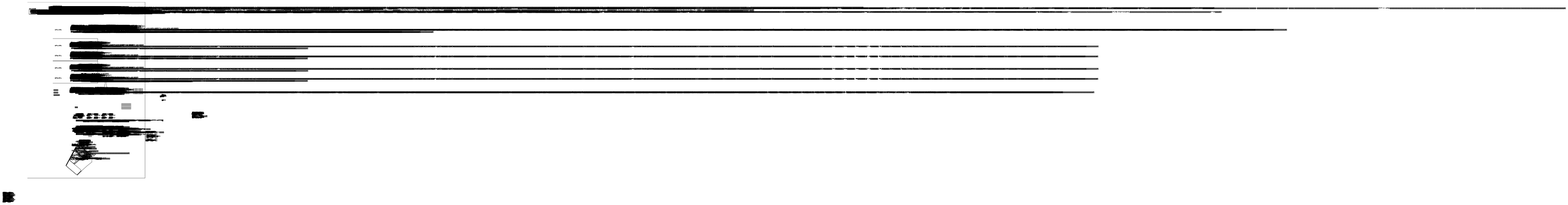corridor: (1093, 112, 1104, 113), (834, 151, 838, 153), (779, 151, 783, 153), (700, 151, 703, 153), (703, 151, 706, 153), (838, 151, 841, 153), (822, 151, 825, 153), (1090, 112, 1093, 114), (1017, 179, 1021, 180), (703, 179, 707, 180), (834, 129, 838, 130), (1228, 179, 1232, 180), (779, 129, 783, 130), (1225, 179, 1228, 180), (838, 129, 841, 130), (707, 179, 710, 180), (768, 162, 771, 163), (876, 162, 879, 163), (700, 129, 703, 130), (768, 139, 771, 140), (876, 139, 879, 140), (771, 162, 774, 163), (873, 162, 876, 163), (703, 129, 706, 130), (771, 139, 774, 140), (873, 139, 876, 140), (690, 162, 693, 163), (1011, 179, 1014, 180), (888, 162, 891, 163), (888, 139, 891, 140), (690, 139, 693, 140), (822, 129, 825, 130), (920, 179, 923, 180), (1090, 111, 1093, 112)
room: (701, 51, 746, 53), (854, 196, 884, 198), (752, 151, 778, 153), (808, 46, 834, 48), (830, 197, 867, 198), (733, 179, 763, 180), (1172, 179, 1202, 180), (443, 193, 453, 196), (878, 47, 893, 49), (869, 48, 884, 50), (827, 179, 856, 180), (1077, 179, 1106, 180), (719, 115, 747, 116), (390, 193, 399, 196), (856, 179, 882, 180), (763, 179, 789, 180), (1146, 179, 1172, 180), (696, 162, 722, 163), (1051, 179, 1077, 180), (739, 151, 752, 153), (752, 129, 778, 130), (696, 139, 722, 140), (828, 45, 841, 47), (1166, 195, 1174, 198), (1157, 195, 1165, 198), (1176, 195, 1184, 198), (1185, 195, 1193, 198), (1204, 195, 1212, 198), (1195, 195, 1203, 198), (1214, 195, 1222, 198), (1223, 195, 1231, 198), (688, 115, 712, 116), (710, 179, 733, 180), (1202, 179, 1225, 180), (905, 124, 916, 126), (850, 196, 860, 198), (874, 151, 884, 153), (826, 197, 842, 198), (692, 151, 700, 153), (946, 115, 962, 116), (706, 151, 713, 153), (841, 151, 848, 153), (827, 151, 834, 153), (816, 196, 823, 198), (719, 151, 726, 153), (732, 151, 739, 153), (854, 151, 861, 153), (867, 151, 874, 153), (722, 162, 735, 163), (722, 139, 735, 140), (739, 129, 752, 130), (862, 49, 875, 50), (686, 151, 692, 153), (884, 151, 890, 153), (754, 115, 766, 116), (790, 115, 802, 116), (810, 115, 822, 116), (830, 115, 842, 116), (850, 115, 862, 116), (713, 151, 719, 153), (726, 151, 732, 153), (848, 151, 854, 153), (861, 151, 867, 153), (815, 151, 821, 153), (1093, 112, 1104, 113), (882, 179, 892, 180), (863, 162, 873, 163), (1041, 179, 1051, 180), (863, 139, 873, 140), (874, 129, 884, 130), (774, 162, 782, 163), (938, 115, 946, 116), (930, 115, 938, 116), (922, 115, 930, 116), (879, 162, 887, 163), (834, 151, 838, 153), (779, 151, 783, 153), (692, 129, 700, 130), (774, 139, 782, 140), (879, 139, 887, 140), (793, 44, 801, 45), (817, 46, 825, 47), (696, 179, 703, 180), (1232, 179, 1239, 180), (892, 179, 899, 180), (1034, 179, 1041, 180), (735, 162, 742, 163), (761, 162, 768, 163), (830, 162, 837, 163), (905, 179, 912, 180), (912, 179, 919, 180), (1021, 179, 1028, 180), (748, 162, 755, 163), (843, 162, 850, 163), (850, 162, 857, 163), (706, 129, 713, 130), (841, 129, 848, 130), (735, 139, 742, 140), (761, 139, 768, 140), (830, 139, 837, 140), (827, 129, 834, 130), (748, 139, 755, 140), (843, 139, 850, 140), (850, 139, 857, 140), (719, 129, 726, 130), (732, 129, 739, 130), (854, 129, 861, 130), (867, 129, 874, 130), (885, 47, 892, 48), (876, 48, 883, 49), (815, 46, 822, 47), (820, 46, 827, 47), (796, 44, 803, 45), (799, 44, 806, 45), (804, 45, 811, 46), (700, 151, 703, 153), (703, 151, 706, 153), (690, 179, 696, 180), (1140, 179, 1146, 180), (820, 179, 826, 180), (1004, 179, 1010, 180), (899, 179, 905, 180), (818, 162, 824, 163), (824, 162, 830, 163), (683, 162, 689, 163), (916, 115, 922, 116), (838, 151, 841, 153), (748, 115, 754, 116), (754, 115, 760, 116), (784, 115, 790, 116), (790, 115, 796, 116), (804, 115, 810, 116), (810, 115, 816, 116), (824, 115, 830, 116), (844, 115, 850, 116), (713, 115, 719, 116), (1028, 179, 1034, 180), (742, 162, 748, 163), (755, 162, 761, 163), (837, 162, 843, 163), (857, 162, 863, 163), (822, 151, 825, 153), (686, 129, 692, 130), (884, 129, 890, 130), (818, 139, 824, 140), (824, 139, 830, 140), (683, 139, 689, 140), (742, 139, 748, 140), (755, 139, 761, 140), (837, 139, 843, 140), (857, 139, 863, 140), (713, 129, 719, 130), (726, 129, 732, 130), (848, 129, 854, 130), (861, 129, 867, 130), (815, 129, 821, 130), (843, 47, 849, 48), (872, 49, 878, 50), (885, 48, 891, 49), (881, 48, 887, 49), (879, 196, 884, 197), (843, 196, 848, 197), (854, 196, 859, 197), (956, 115, 961, 116), (682, 115, 687, 116), (831, 115, 836, 116), (851, 115, 856, 116), (1173, 73, 1178, 74), (1181, 73, 1186, 74), (1189, 73, 1194, 74), (1197, 73, 1202, 74), (1205, 73, 1210, 74), (877, 49, 882, 50), (868, 196, 872, 197), (703, 179, 707, 180), (1228, 179, 1232, 180), (1017, 179, 1021, 180), (834, 129, 838, 130), (779, 129, 783, 130), (860, 49, 864, 50), (885, 152, 888, 153), (707, 179, 710, 180), (1225, 179, 1228, 180), (771, 162, 774, 163), (768, 162, 771, 163), (1090, 111, 1093, 112), (876, 162, 879, 163), (873, 162, 876, 163), (920, 179, 923, 180), (1011, 179, 1014, 180), (285, 193, 288, 194), (690, 162, 693, 163), (888, 162, 891, 163), (700, 129, 703, 130), (703, 129, 706, 130), (885, 129, 888, 130), (771, 139, 774, 140), (768, 139, 771, 140), (876, 139, 879, 140), (873, 139, 876, 140), (838, 129, 841, 130), (690, 139, 693, 140), (888, 139, 891, 140), (822, 129, 825, 130), (826, 162, 828, 163), (826, 139, 828, 140), (694, 152, 695, 153), (698, 179, 699, 180), (1236, 179, 1237, 180), (779, 162, 780, 163), (884, 162, 885, 163), (829, 152, 830, 153), (694, 129, 695, 130), (779, 139, 780, 140), (884, 139, 885, 140), (829, 129, 830, 130), (812, 194, 817, 194), (824, 194, 828, 194), (853, 194, 858, 194), (842, 194, 846, 194), (697, 153, 699, 153), (1016, 180, 1018, 180), (916, 180, 919, 180), (821, 163, 825, 163), (777, 163, 779, 163), (1059, 115, 1060, 115), (1033, 115, 1035, 115), (697, 130, 699, 130), (821, 140, 825, 140), (777, 140, 779, 140), (812, 46, 820, 46), (791, 44, 798, 44), (801, 45, 809, 45), (890, 48, 896, 48)
wall: (255, 24, 1447, 205), (641, 28, 859, 61), (742, 47, 845, 58), (688, 40, 794, 50), (1027, 115, 1054, 129), (817, 43, 850, 47), (750, 49, 789, 52), (787, 43, 818, 46), (1051, 113, 1076, 116), (1026, 113, 1050, 116), (1216, 69, 1244, 71), (812, 45, 838, 47), (818, 44, 843, 46), (795, 43, 814, 45), (836, 194, 841, 198), (829, 44, 840, 45), (1278, 194, 1288, 195), (1276, 194, 1284, 195), (1292, 194, 1300, 195), (743, 51, 751, 52), (1286, 193, 1293, 194), (1272, 193, 1279, 194), (1090, 112, 1093, 114), (1290, 194, 1296, 195), (1293, 193, 1299, 194), (1279, 193, 1285, 194), (1274, 194, 1279, 195), (862, 49, 867, 50), (845, 47, 850, 48), (1288, 194, 1292, 195), (915, 176, 919, 177), (1024, 176, 1028, 177), (886, 48, 890, 49), (854, 46, 858, 47), (836, 45, 840, 46), (1343, 198, 1346, 199), (1339, 198, 1342, 199), (1323, 198, 1326, 199), (1327, 198, 1330, 199), (1331, 198, 1334, 199), (1335, 198, 1338, 199), (1319, 198, 1322, 199), (912, 176, 915, 177), (1021, 176, 1024, 177), (1000, 198, 1002, 199), (936, 198, 938, 199), (866, 198, 868, 199), (816, 198, 818, 199), (1018, 179, 1020, 180), (941, 74, 943, 75), (716, 196, 718, 197), (1092, 74, 1094, 75), (862, 49, 864, 50), (1010, 199, 1011, 199), (997, 199, 999, 199), (964, 199, 966, 199), (940, 199, 942, 199), (928, 199, 929, 199), (982, 194, 986, 194), (978, 194, 982, 194), (1300, 194, 1304, 194), (758, 72, 761, 72), (751, 72, 754, 72), (744, 72, 746, 72), (736, 72, 738, 72), (729, 72, 731, 72), (1198, 74, 1201, 74), (1190, 74, 1193, 74), (1182, 74, 1185, 74), (1174, 74, 1177, 74), (1207, 74, 1209, 74), (717, 196, 719, 196), (714, 196, 716, 196), (729, 196, 731, 196), (726, 196, 728, 196), (713, 194, 716, 194), (719, 194, 722, 194), (733, 194, 736, 194), (726, 194, 729, 194), (735, 196, 737, 196), (732, 196, 734, 196), (873, 50, 877, 50), (882, 49, 886, 49), (891, 48, 895, 48), (878, 49, 881, 49), (844, 48, 846, 48), (839, 48, 842, 48)
